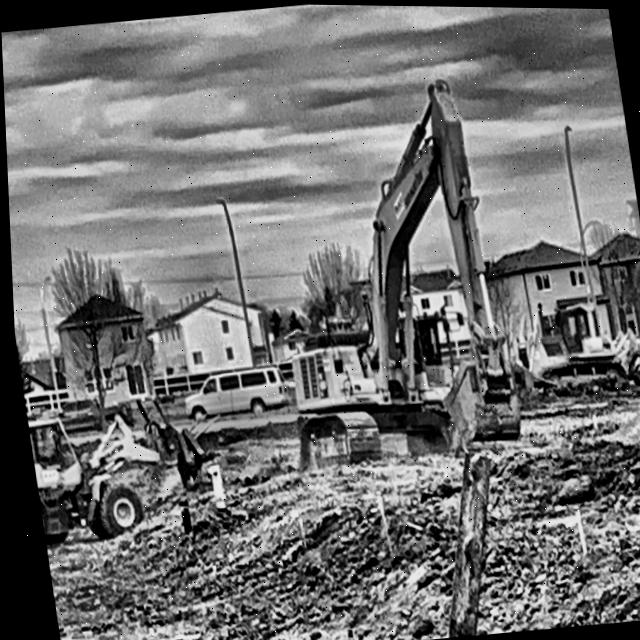buldozerpayloadergrader: (21, 390, 220, 571)
excavator: (249, 81, 548, 472)
